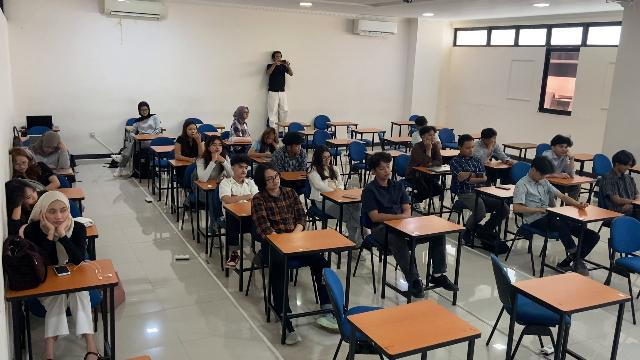bosan: (47, 203, 67, 226), (376, 163, 392, 179), (266, 171, 280, 189), (15, 156, 28, 173), (619, 159, 633, 174), (25, 188, 38, 204), (463, 141, 474, 156), (211, 140, 222, 154), (557, 142, 568, 155), (237, 164, 248, 176), (426, 131, 436, 144), (536, 171, 549, 181), (322, 152, 331, 166), (45, 145, 56, 155), (265, 133, 275, 144), (187, 125, 196, 137), (292, 143, 301, 155)
